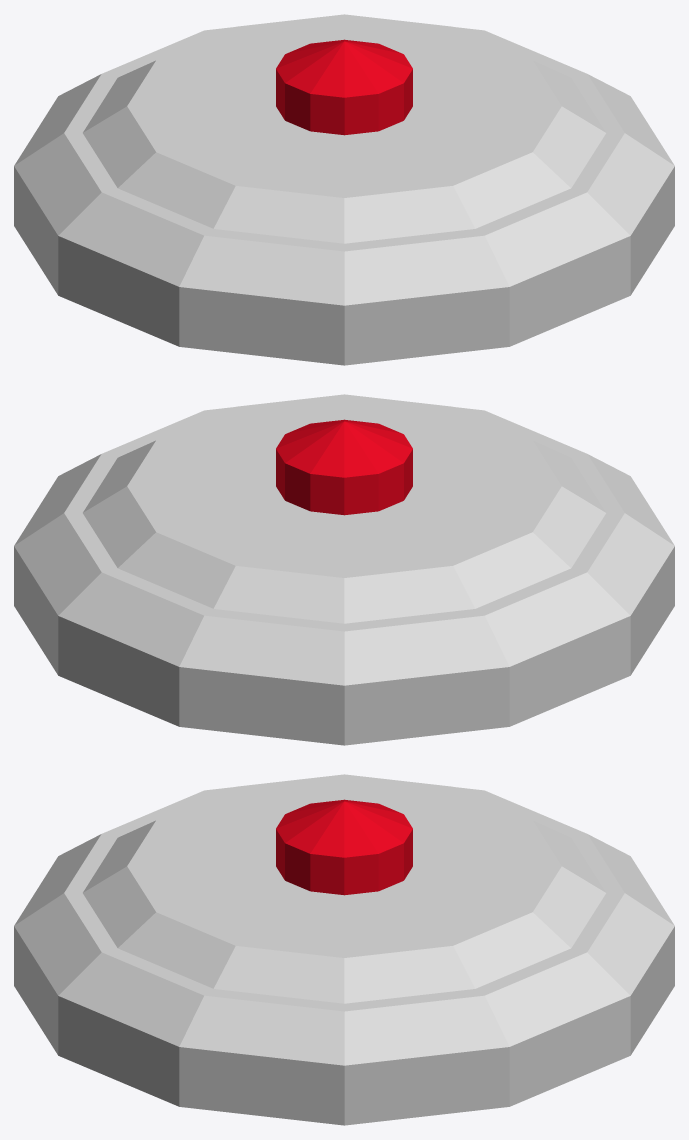
The model's file is Smokedetector.dae.
3 views of the same model, one above another, from view 1: azimuth 30°, elevation 25°; view 2: azimuth 150°, elevation 25°; view 3: azimuth 270°, elevation 25° (orthographic).
Visible parts, largest first — view 1: Cylinder; view 2: Cylinder; view 3: Cylinder.
Boxes of the visible parts, bbox=[...] form: Cylinder: bbox=[14, 14, 674, 365]; Cylinder: bbox=[14, 394, 674, 745]; Cylinder: bbox=[14, 774, 674, 1125].
Size of the model in its own units: 2 by 2 by 0.6161.
